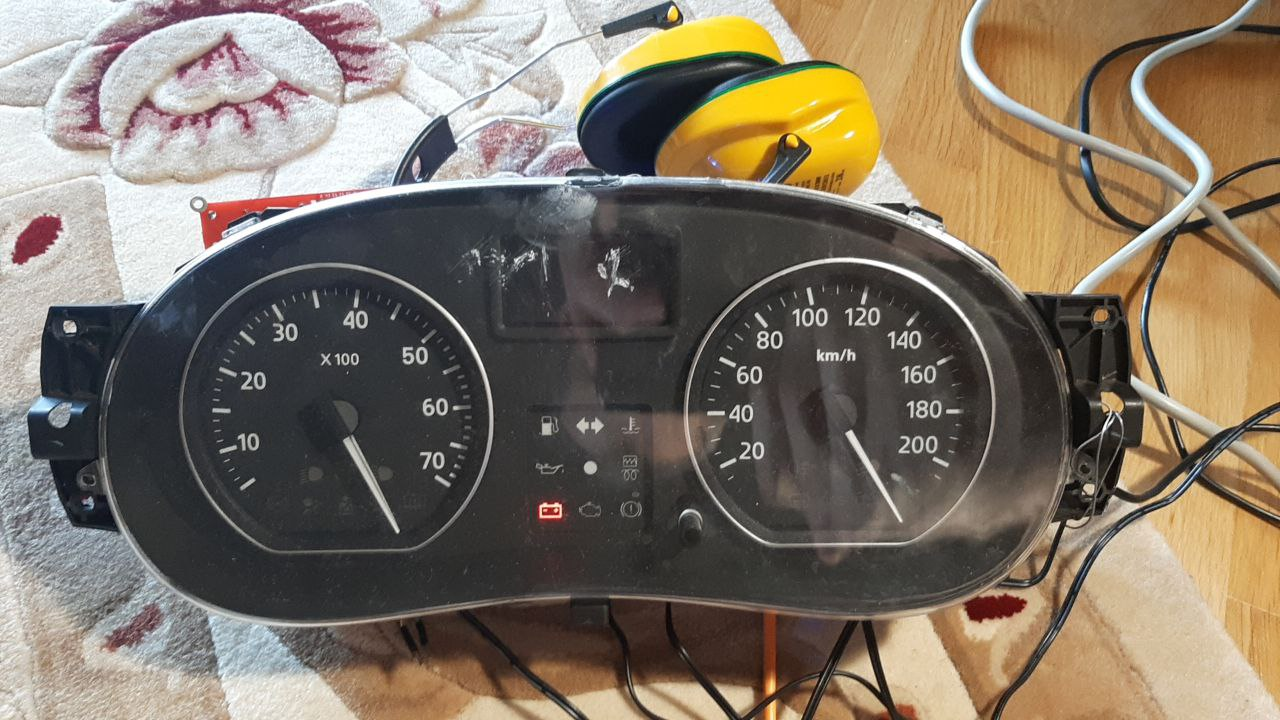accumulator: (533, 497, 567, 522)
